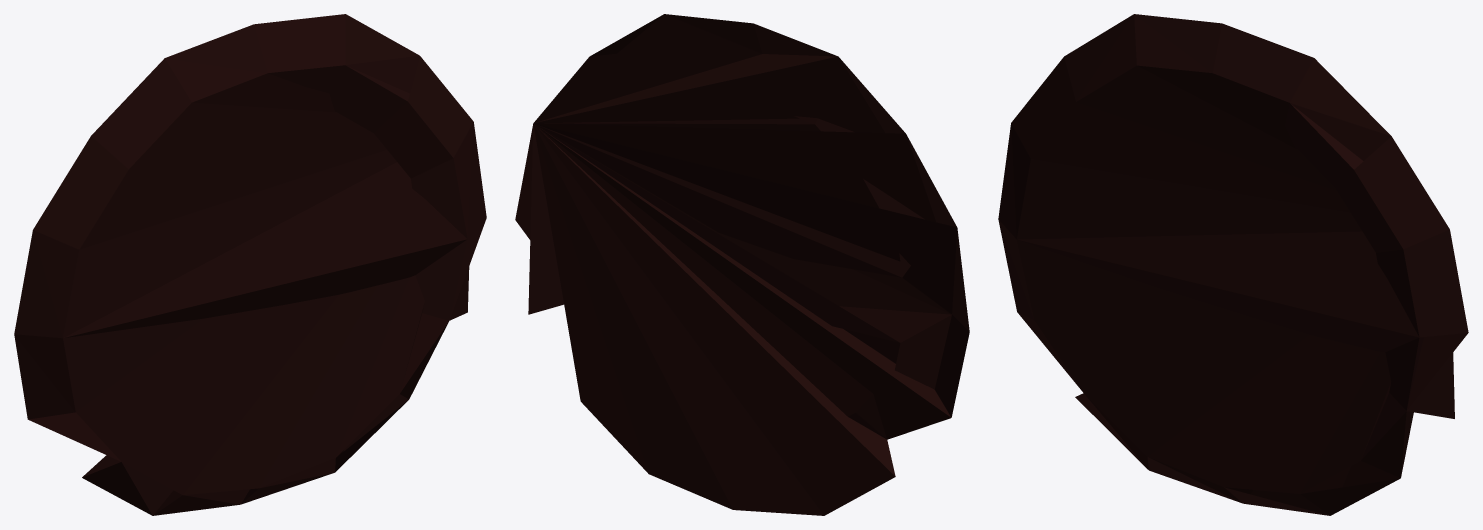
File: S.S._Dolphin_Wheel.obj
3 renders of one model, left to right at view 1: azimuth 30°, elevation 25°; view 2: azimuth 150°, elevation 25°; view 3: azimuth 330°, elevation 25°, orthographic. The views are drawn at different scales.
Parts seen in each view (by area): view 1: S.S._Dolphin_Wheel; view 2: S.S._Dolphin_Wheel; view 3: S.S._Dolphin_Wheel.
Boxes of the visible parts, bbox=[...] form: S.S._Dolphin_Wheel: bbox=[14, 14, 486, 515]; S.S._Dolphin_Wheel: bbox=[515, 14, 969, 515]; S.S._Dolphin_Wheel: bbox=[998, 14, 1468, 515].
Size of the model in its own units: 0.6117 by 0.6112 by 0.0652.
